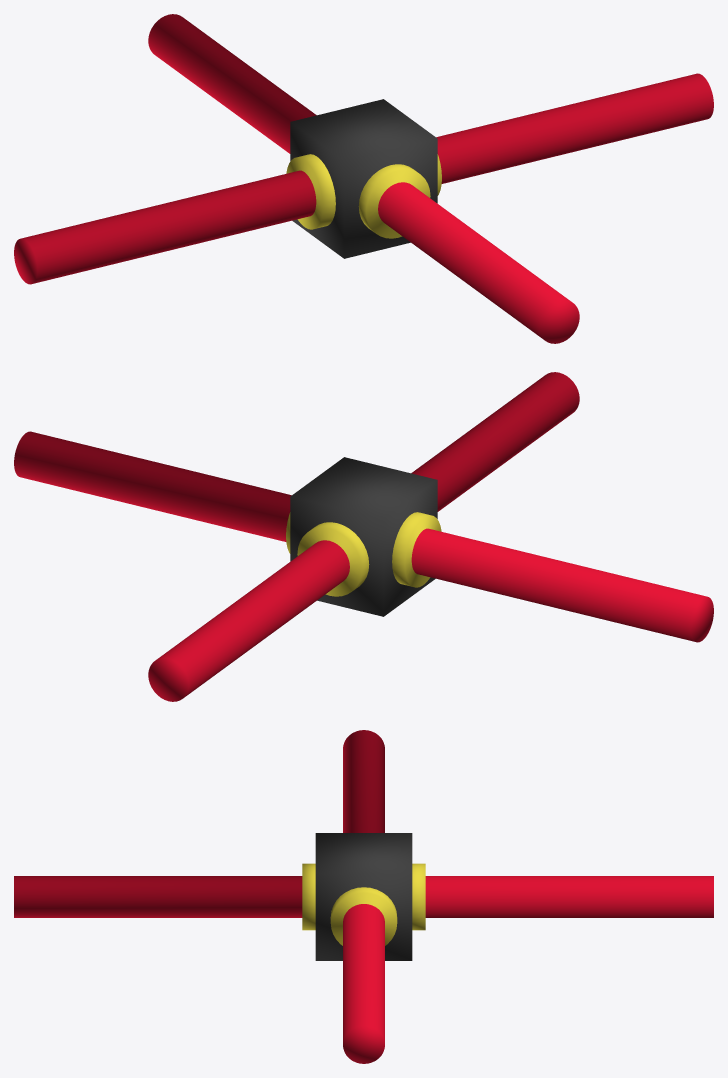
The model's file is еуыеfbx.fbx.
3 views of the same model, one above another, from view 1: azimuth 30°, elevation 25°; view 2: azimuth 150°, elevation 25°; view 3: azimuth 270°, elevation 25° (orthographic). The views are drawn at different scales.
Parts seen in each view (by area): view 1: Куб; view 2: Куб; view 3: Куб.
Part boxes in pixels (x1,y1,x2,y2): Куб: [14, 14, 713, 343]; Куб: [14, 372, 713, 701]; Куб: [14, 730, 713, 1063].
Size of the model in its own units: 1450 by 200 by 1451.
